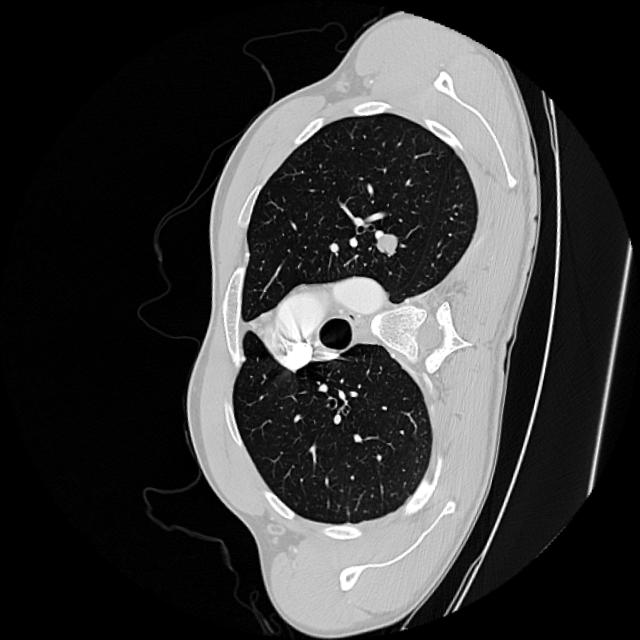nodule: (361, 219, 412, 270)
